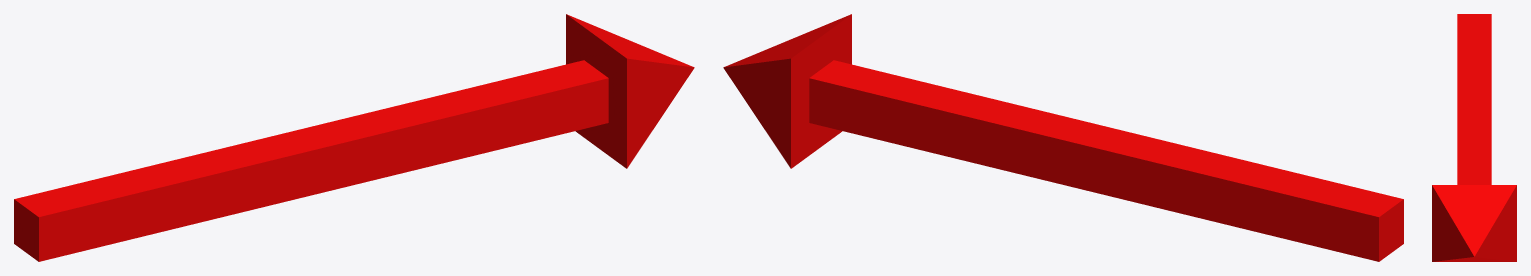
The model's file is arrow_model_3.obj.
The picture shows the model from 3 angles, left to right: view 1: azimuth 30°, elevation 25°; view 2: azimuth 150°, elevation 25°; view 3: azimuth 270°, elevation 25°; orthographic projection. The views are drawn at different scales.
Visible parts, largest first — view 1: Arrow3_Cube_Cube.006; view 2: Arrow3_Cube_Cube.006; view 3: Arrow3_Cube_Cube.006.
Boxes of the visible parts, bbox=[...] form: Arrow3_Cube_Cube.006: bbox=[14, 14, 694, 261]; Arrow3_Cube_Cube.006: bbox=[723, 14, 1403, 261]; Arrow3_Cube_Cube.006: bbox=[1432, 14, 1516, 261].
Size of the model in its own units: 1.17 by 0.1852 by 0.1852.
